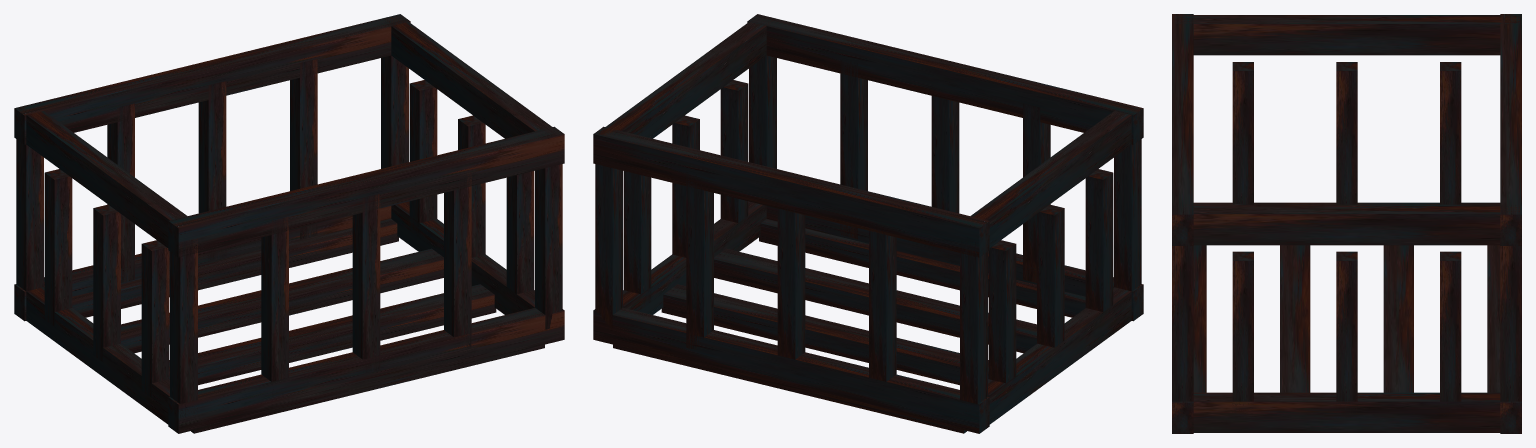
File: loose_crate.glb
The picture shows the model from 3 angles, left to right: view 1: azimuth 30°, elevation 25°; view 2: azimuth 150°, elevation 25°; view 3: azimuth 270°, elevation 25°; orthographic projection. The views are drawn at different scales.
Parts seen in each view (by area): view 1: _MeshInstance3D_39761, _MeshInstance3D_39757, _MeshInstance3D_39760, _MeshInstance3D_39774, _MeshInstance3D_39773, _MeshInstance3D_39762, _MeshInstance3D_39763, _MeshInstance3D_39758, _MeshInstance3D_39768, CrateBase, _MeshInstance3D_39764, _MeshInstance3D_39770 (+16 smaller); view 2: _MeshInstance3D_39760, CrateRim, _MeshInstance3D_39761, _MeshInstance3D_39773, _MeshInstance3D_39774, _MeshInstance3D_39762, _MeshInstance3D_39763, _MeshInstance3D_39758, _MeshInstance3D_39775, _MeshInstance3D_39769, CrateLattice, _MeshInstance3D_39767 (+16 smaller); view 3: _MeshInstance3D_39763, _MeshInstance3D_39762, _MeshInstance3D_39759, _MeshInstance3D_39761, _MeshInstance3D_39760, _MeshInstance3D_39773, _MeshInstance3D_39774, _MeshInstance3D_39771, _MeshInstance3D_39772, _MeshInstance3D_39779, _MeshInstance3D_39780, _MeshInstance3D_39778 (+8 smaller).
Part boxes in pixels (x1,y1,x2,y2): _MeshInstance3D_39761: (168, 126, 564, 257); _MeshInstance3D_39757: (168, 308, 564, 433); _MeshInstance3D_39760: (14, 14, 410, 144); _MeshInstance3D_39774: (169, 284, 496, 385); _MeshInstance3D_39773: (121, 248, 443, 353); _MeshInstance3D_39762: (17, 106, 187, 247); _MeshInstance3D_39763: (384, 16, 561, 138); _MeshInstance3D_39758: (26, 287, 169, 424); _MeshInstance3D_39768: (352, 194, 380, 372); CrateBase: (72, 219, 398, 317); _MeshInstance3D_39764: (170, 239, 197, 417); _MeshInstance3D_39770: (444, 172, 471, 348); _MeshInstance3D_39760: (593, 126, 989, 257); CrateRim: (593, 308, 989, 433); _MeshInstance3D_39761: (747, 14, 1143, 144); _MeshInstance3D_39773: (661, 284, 988, 385); _MeshInstance3D_39774: (714, 248, 1036, 353); _MeshInstance3D_39762: (970, 107, 1140, 247); _MeshInstance3D_39763: (596, 15, 773, 138); _MeshInstance3D_39758: (988, 287, 1131, 424); _MeshInstance3D_39775: (759, 219, 1085, 317); _MeshInstance3D_39769: (686, 172, 713, 349); CrateLattice: (960, 240, 987, 416); _MeshInstance3D_39767: (777, 204, 805, 359); _MeshInstance3D_39763: (1174, 204, 1519, 245); _MeshInstance3D_39762: (1174, 15, 1519, 55); _MeshInstance3D_39759: (1193, 392, 1500, 432); _MeshInstance3D_39761: (1172, 14, 1193, 245); _MeshInstance3D_39760: (1500, 14, 1521, 245); _MeshInstance3D_39773: (1383, 245, 1413, 392); _MeshInstance3D_39774: (1280, 245, 1310, 392); _MeshInstance3D_39771: (1500, 246, 1521, 401); _MeshInstance3D_39772: (1172, 246, 1193, 401); _MeshInstance3D_39779: (1336, 251, 1357, 417); _MeshInstance3D_39780: (1232, 251, 1253, 417); _MeshInstance3D_39778: (1440, 251, 1461, 415).
Bounding box in the file's own units: 0.55 × 0.2875 × 0.405.
1 material, 1 textured.
